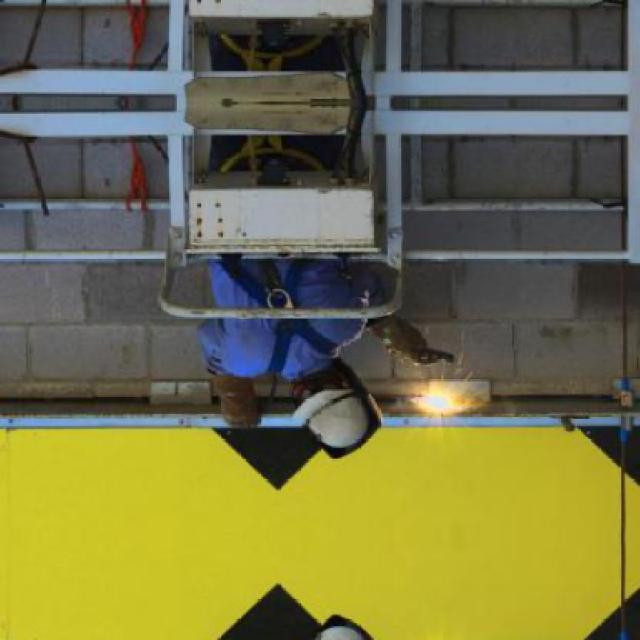con casco: (274, 351, 382, 456)
